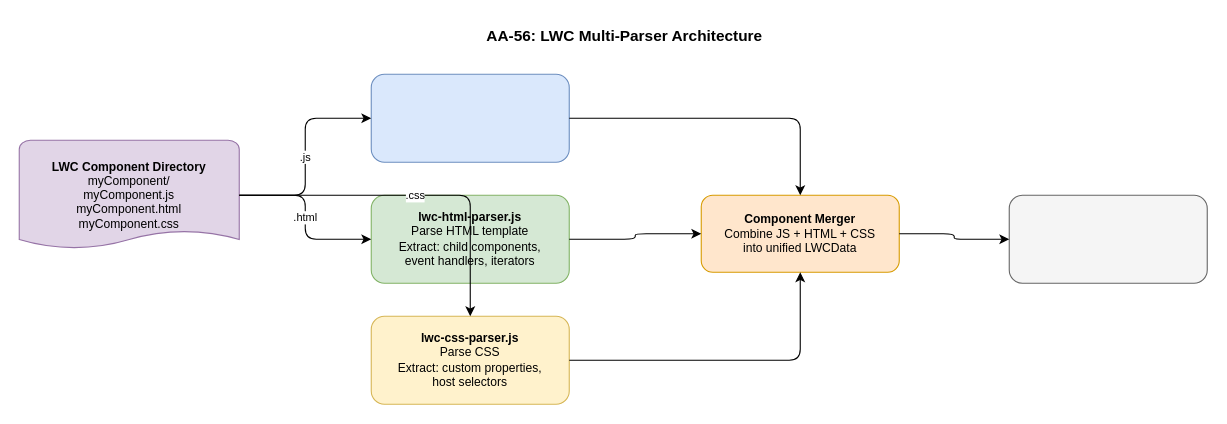
The diagram is 1227 pixels wide and 424 high, and some of its shapes have lost their labels. The centre of each missing label's shape, as x and y in pixels:
"lwc-js-parser.js Parse JavaScript Extract: @api, @wire, imports, methods" goes at (x=469, y=117).
"LWCIndexData { api, wire, events, children, imports, styles }" goes at (x=1107, y=238).
